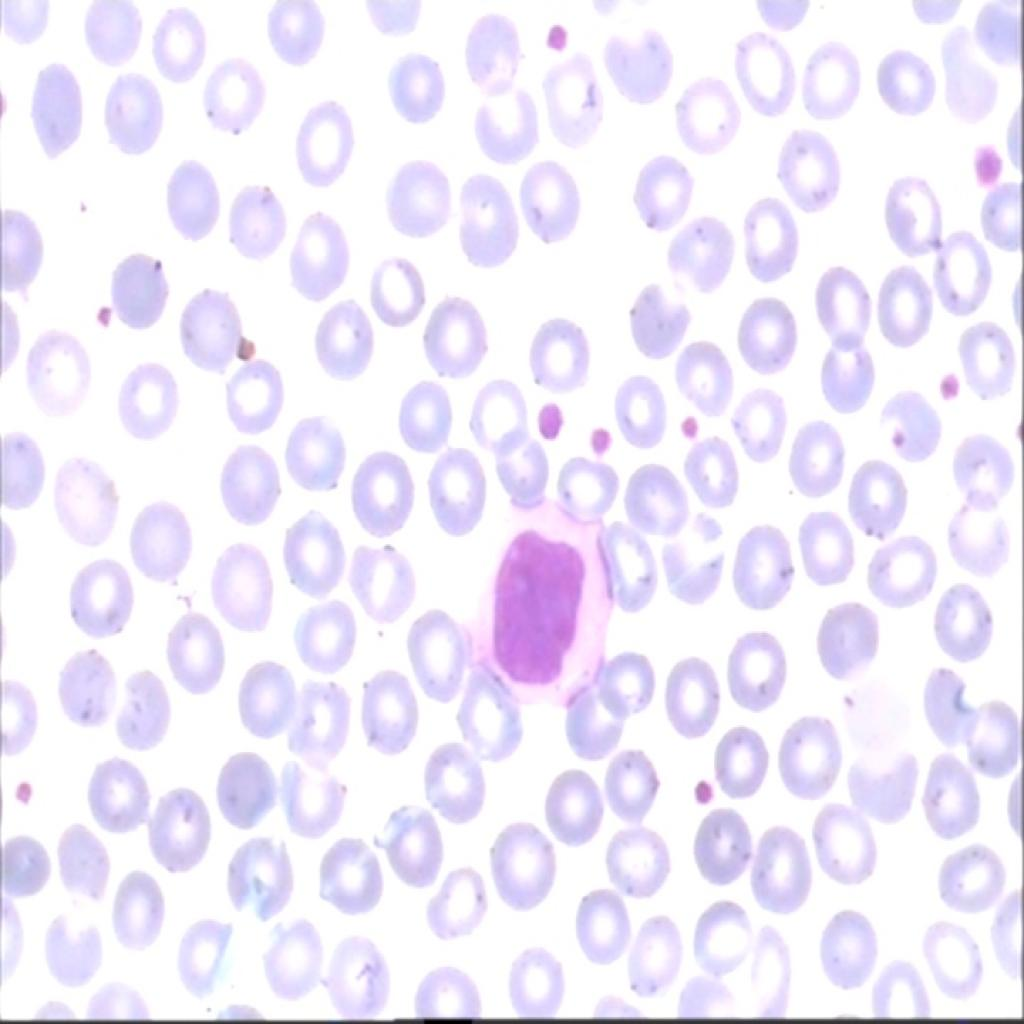Monosit: (462, 503, 613, 704)
Platelet: (960, 133, 1010, 183), (920, 354, 964, 402), (531, 400, 566, 448), (228, 329, 260, 371), (584, 418, 614, 457), (540, 18, 569, 58), (87, 302, 118, 338), (670, 406, 698, 444), (687, 771, 711, 809), (9, 773, 34, 809), (882, 420, 904, 442)
